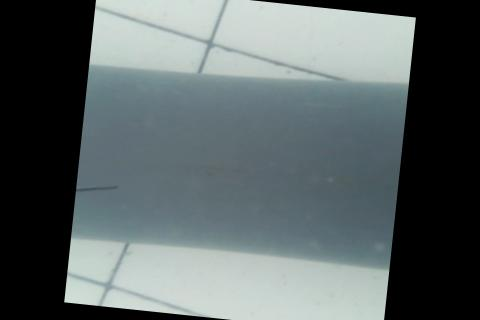keretakan: (76, 177, 123, 198)
